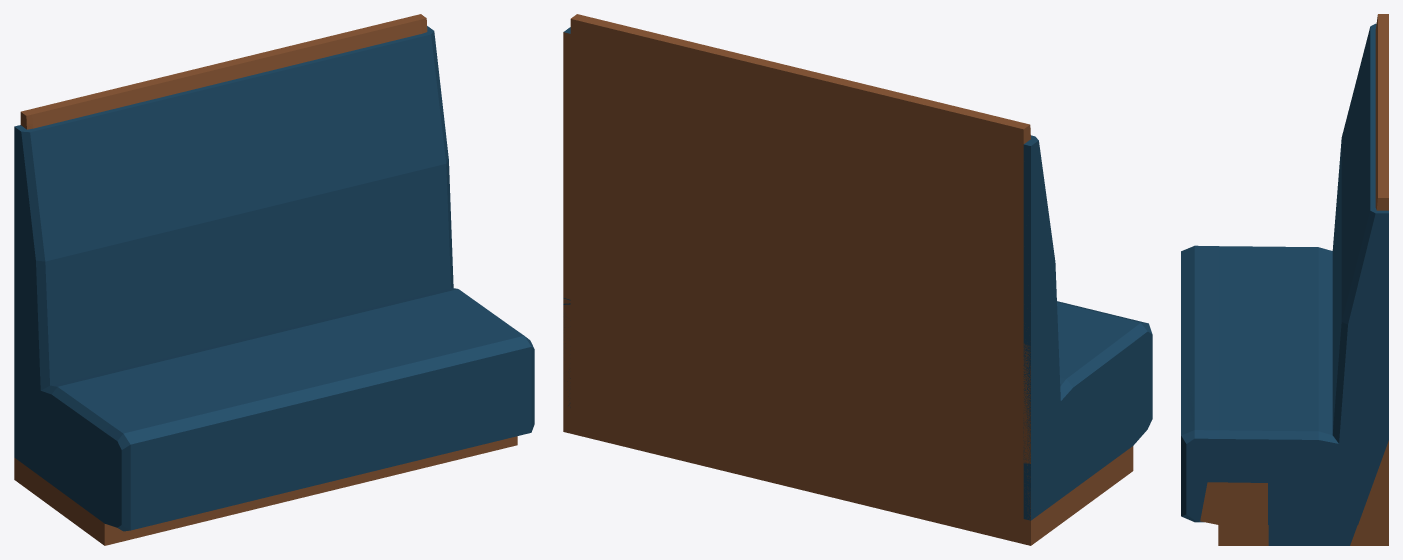
Rendered from boothseat.fbx.
3 views of the same model, side by side, from view 1: azimuth 30°, elevation 25°; view 2: azimuth 150°, elevation 25°; view 3: azimuth 270°, elevation 25° (orthographic). The views are drawn at different scales.
Visible parts, largest first — view 1: Cube.002, Cube.002_cell.017, Cube.002_cell, Cube.002_cell.010, Cube.002_cell.014, Cube.002_cell.012, Cube.002_cell.006, Cube.002_cell.007, Cube.002_cell.008; view 2: Cube.002, Cube.002_cell.006, Cube.002_cell.010, Cube.002_cell.007, Cube.002_cell.018, Cube.002_cell.001, Cube.002_cell.017, Cube.002_cell.012; view 3: Cube.002, Cube.002_cell.003, Cube.002_cell.010, Cube.002_cell.006, Cube.002_cell.016, Cube.002_cell.017, Cube.002_cell.013, Cube.002_cell.007, Cube.002_cell.018, Cube.002_cell.012, Cube.002_cell.011, Cube.002_cell (+2 smaller).
Boxes of the visible parts, x1=… form: Cube.002: x1=14, y1=18, x2=534, y2=545; Cube.002_cell.017: x1=125, y1=29, x2=363, y2=230; Cube.002_cell: x1=38, y1=183, x2=169, y2=319; Cube.002_cell.010: x1=318, y1=14, x2=448, y2=265; Cube.002_cell.014: x1=14, y1=123, x2=138, y2=200; Cube.002_cell.012: x1=21, y1=86, x2=134, y2=146; Cube.002_cell.006: x1=147, y1=307, x2=382, y2=362; Cube.002_cell.007: x1=47, y1=286, x2=163, y2=400; Cube.002_cell.008: x1=415, y1=350, x2=525, y2=404; Cube.002: x1=563, y1=31, x2=1152, y2=545; Cube.002_cell.006: x1=657, y1=214, x2=900, y2=507; Cube.002_cell.010: x1=563, y1=14, x2=728, y2=323; Cube.002_cell.007: x1=897, y1=297, x2=1087, y2=463; Cube.002_cell.018: x1=563, y1=303, x2=724, y2=470; Cube.002_cell.001: x1=896, y1=452, x2=1030, y2=545; Cube.002_cell.017: x1=643, y1=31, x2=912, y2=100; Cube.002_cell.012: x1=907, y1=96, x2=1029, y2=129; Cube.002: x1=1181, y1=24, x2=1388, y2=545; Cube.002_cell.003: x1=1268, y1=417, x2=1388, y2=545; Cube.002_cell.010: x1=1341, y1=169, x2=1388, y2=434; Cube.002_cell.006: x1=1231, y1=284, x2=1332, y2=399; Cube.002_cell.016: x1=1181, y1=434, x2=1314, y2=481; Cube.002_cell.017: x1=1341, y1=61, x2=1388, y2=259; Cube.002_cell.013: x1=1199, y1=482, x2=1267, y2=545; Cube.002_cell.007: x1=1271, y1=246, x2=1332, y2=294; Cube.002_cell.018: x1=1350, y1=440, x2=1388, y2=545; Cube.002_cell.012: x1=1362, y1=14, x2=1388, y2=103; Cube.002_cell.011: x1=1181, y1=469, x2=1206, y2=522; Cube.002_cell: x1=1337, y1=87, x2=1354, y2=223.
Bounding box in the file's own units: 172 × 146 × 79.7.
